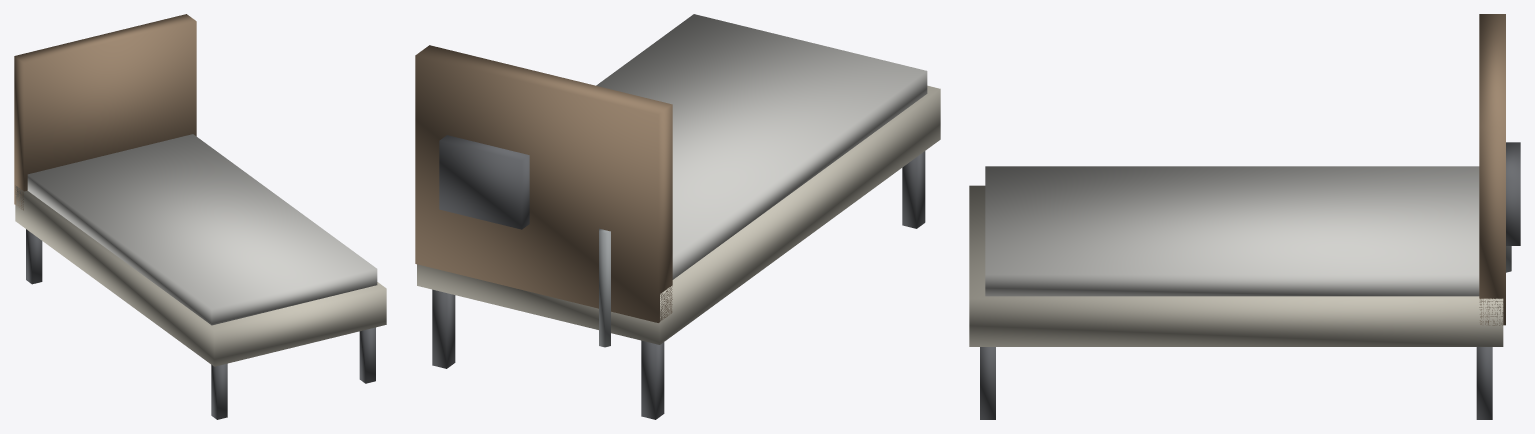
The model's file is single_bed__service.glb.
3 views of the same model, side by side, from view 1: azimuth 30°, elevation 25°; view 2: azimuth 150°, elevation 25°; view 3: azimuth 270°, elevation 25° (orthographic). The views are drawn at different scales.
Visible parts, largest first — view 1: world; view 2: world; view 3: world.
Boxes of the visible parts, left/top/right/bottom form: world: left=14, top=14, right=386, bottom=419; world: left=415, top=14, right=940, bottom=419; world: left=969, top=14, right=1520, bottom=419.
Bounding box in the file's own units: 1 × 1.23 × 2.07.
